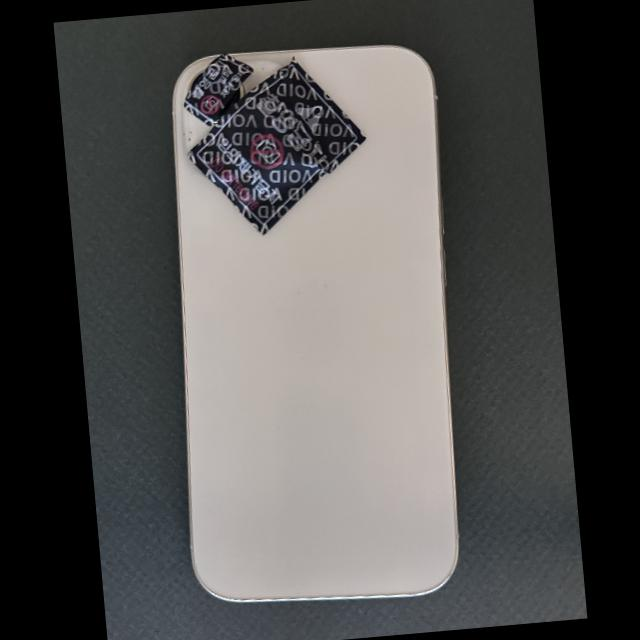lens: (215, 84, 244, 123)
phone: (172, 45, 458, 601)
sticker: (187, 56, 366, 235), (184, 52, 254, 126)
